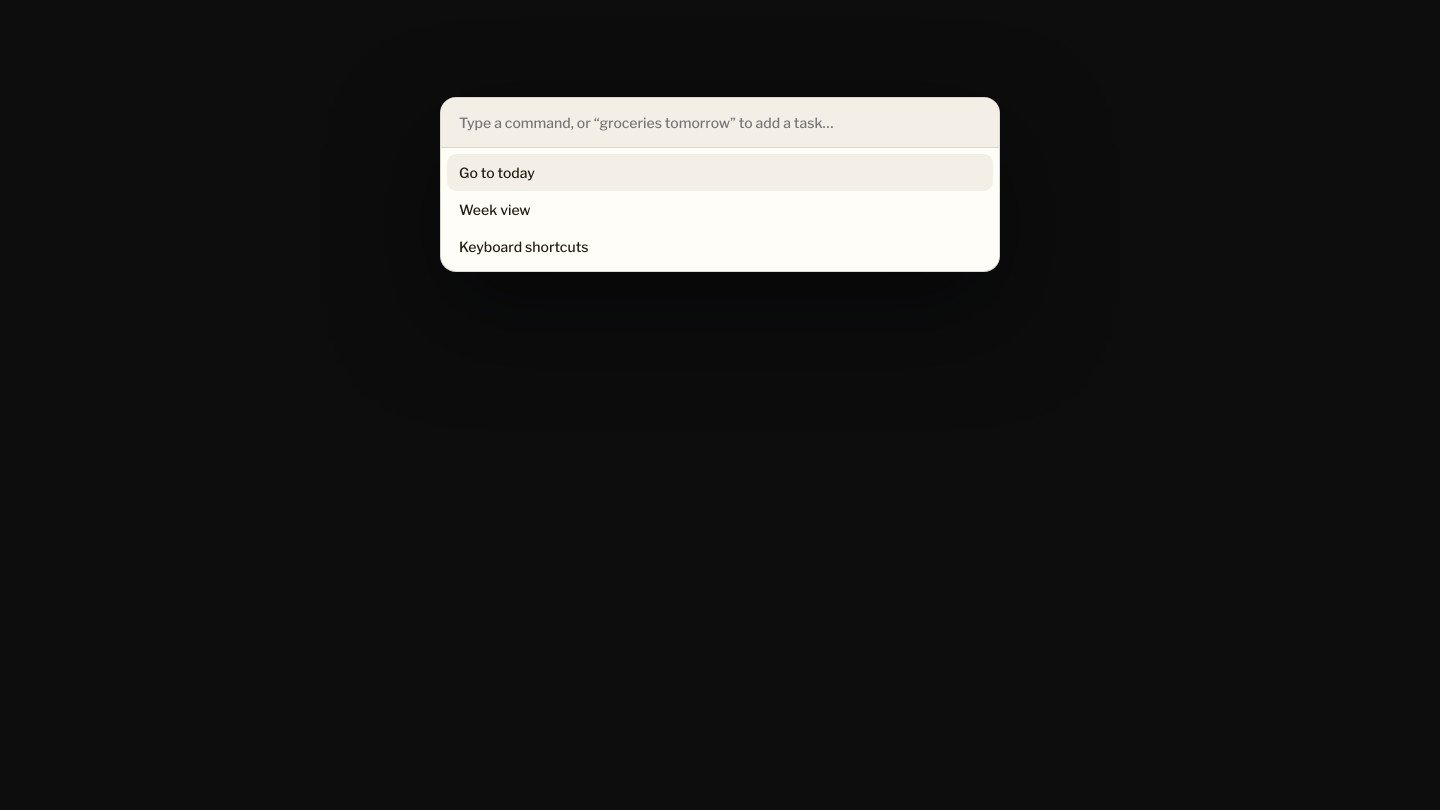
typing puts "Add task" first, with its preview, above the commands that match
Type "week" into the dropdown named "Type a command, or a task to add" at [720, 123], box left=441, top=98, right=999, bottom=147
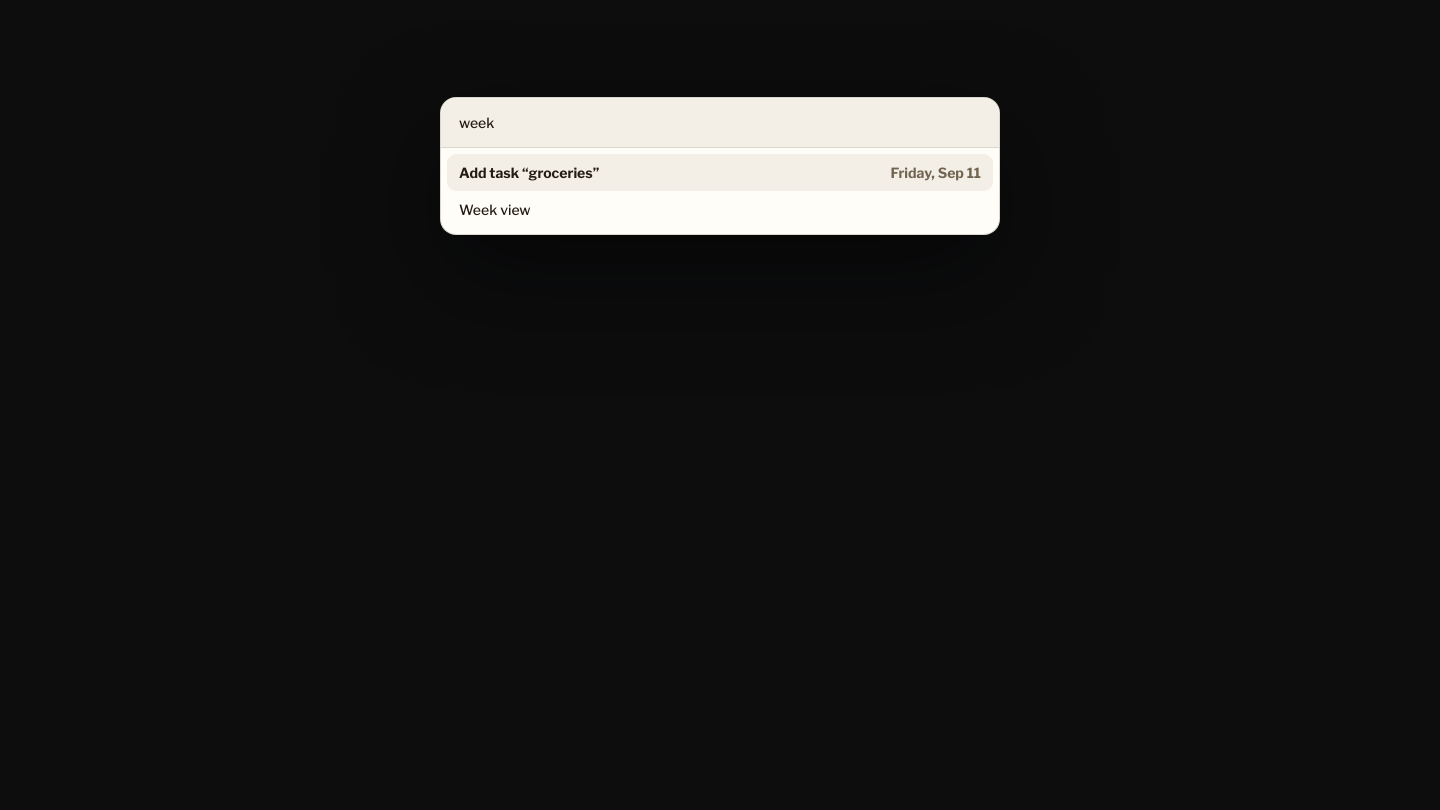
Now the options read "Add task “groceries”Friday, Sep 11", "Week view", in this order, box left=447, top=154, right=993, bottom=191; left=459, top=201, right=531, bottom=218
